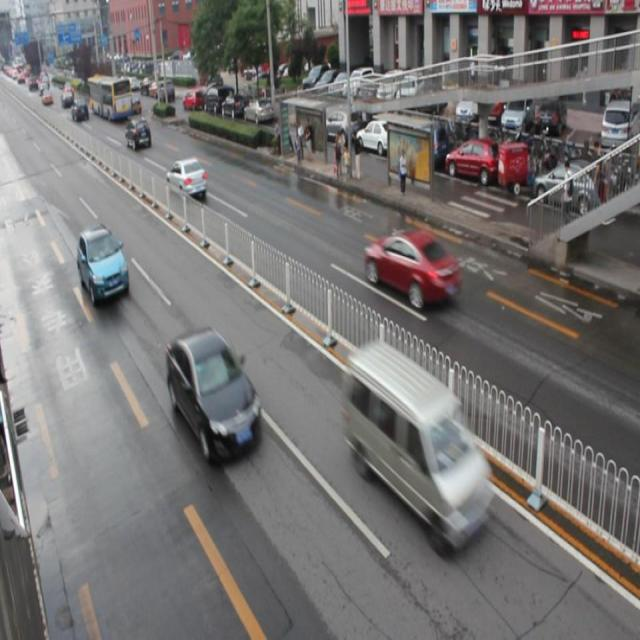car: (164, 326, 260, 462), (363, 227, 462, 309), (77, 222, 130, 306), (166, 154, 207, 198), (126, 117, 151, 150)
truck: (339, 338, 494, 553)
